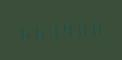eight: (74, 19, 87, 38), (88, 18, 101, 37)
nine: (60, 20, 73, 39)
six: (17, 22, 30, 41), (31, 21, 44, 40)
three: (46, 20, 59, 40)
